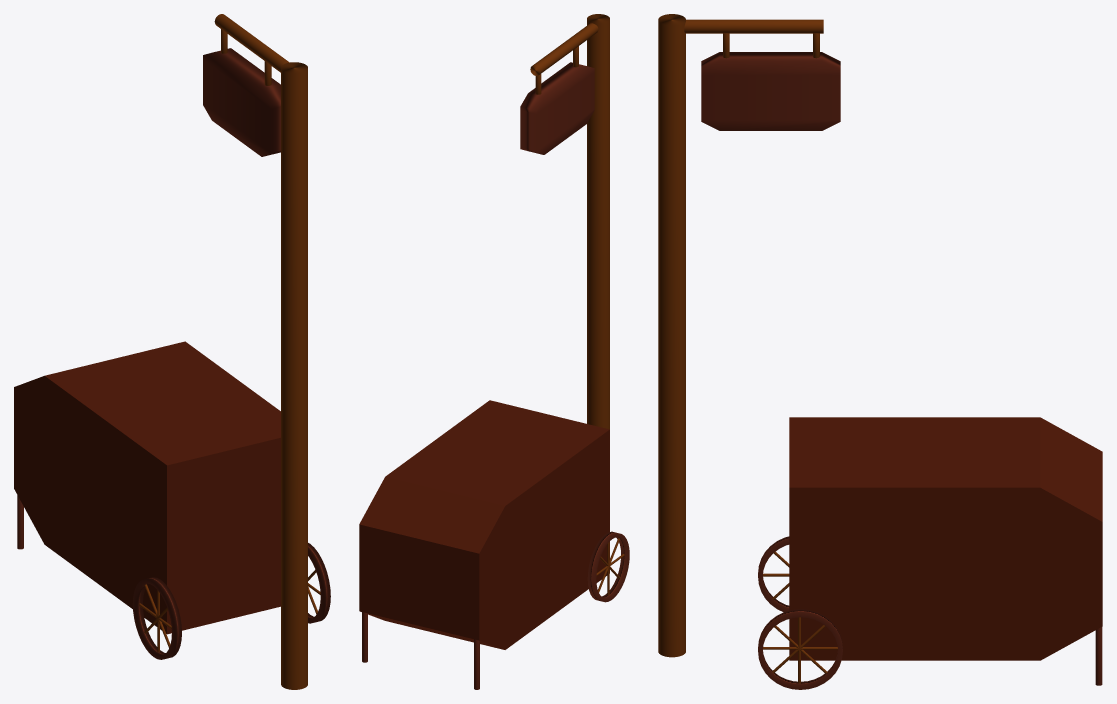
The model's file is CoffeeShop.fbx.
3 renders of one model, left to right at view 1: azimuth 30°, elevation 25°; view 2: azimuth 150°, elevation 25°; view 3: azimuth 270°, elevation 25°, orthographic. The views are drawn at different scales.
Visible parts, largest first — view 1: Cube.001, Cylinder, Cube, Cylinder.005, Cylinder.001, Cylinder.004; view 2: Cube.001, Cylinder, Cube, Cylinder.005, Cylinder.001; view 3: Cube.001, Cylinder, Cube, Cylinder.001, Cylinder.004, Cylinder.005.
Part boxes in pixels (x1,y1,x2,y2): Cube.001: (14, 341, 280, 634); Cylinder: (281, 62, 307, 689); Cube: (203, 48, 280, 156); Cylinder.005: (132, 577, 181, 659); Cylinder.001: (214, 14, 289, 72); Cylinder.004: (308, 543, 330, 623); Cube.001: (359, 400, 609, 649); Cylinder: (587, 14, 609, 429); Cube: (520, 62, 594, 154); Cylinder.005: (587, 531, 629, 602); Cylinder.001: (530, 23, 598, 75); Cube.001: (789, 417, 1102, 660); Cylinder: (658, 14, 685, 657); Cube: (701, 52, 840, 130); Cylinder.001: (684, 19, 823, 33); Cylinder.004: (758, 609, 842, 689); Cylinder.005: (758, 536, 789, 612).
Size of the model in its own units: 266 by 1000 by 638.
